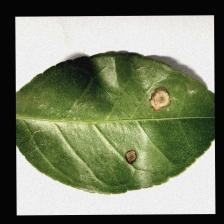canker: (114, 78, 177, 174)
